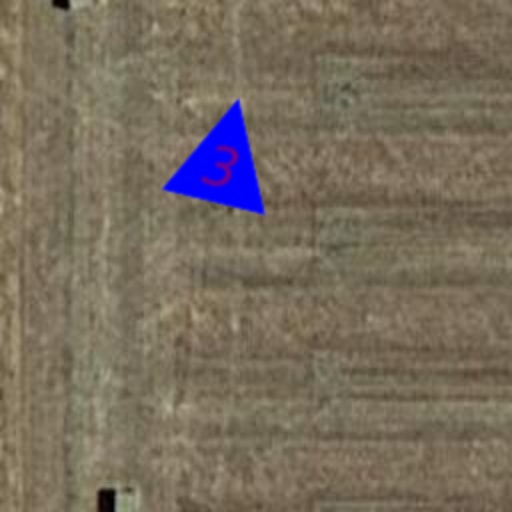triangle: (160, 84, 292, 216)
